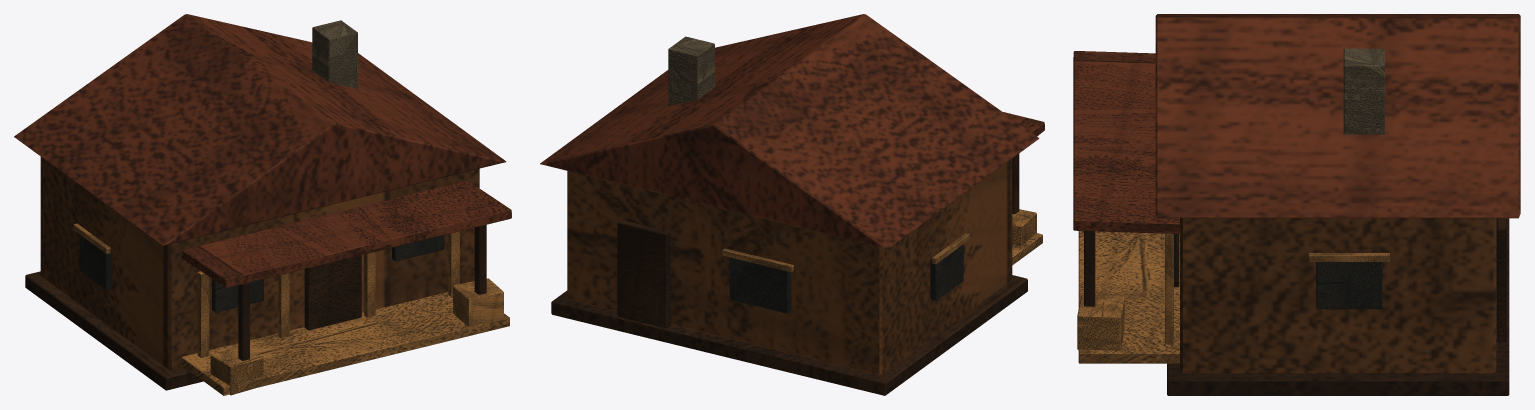
The model's file is maintained_claim_house.glb.
3 views of the same model, side by side, from view 1: azimuth 30°, elevation 25°; view 2: azimuth 150°, elevation 25°; view 3: azimuth 270°, elevation 25° (orthographic). The views are drawn at different scales.
Visible parts, largest first — view 1: maintained_claim_house; view 2: maintained_claim_house; view 3: maintained_claim_house.
Part boxes in pixels (x1,y1,x2,y2): maintained_claim_house: (14, 14, 511, 395); maintained_claim_house: (540, 14, 1044, 395); maintained_claim_house: (1073, 14, 1520, 395).
Size of the model in its own units: 6.4 by 4.29 by 5.94.
1 material, 1 textured.
